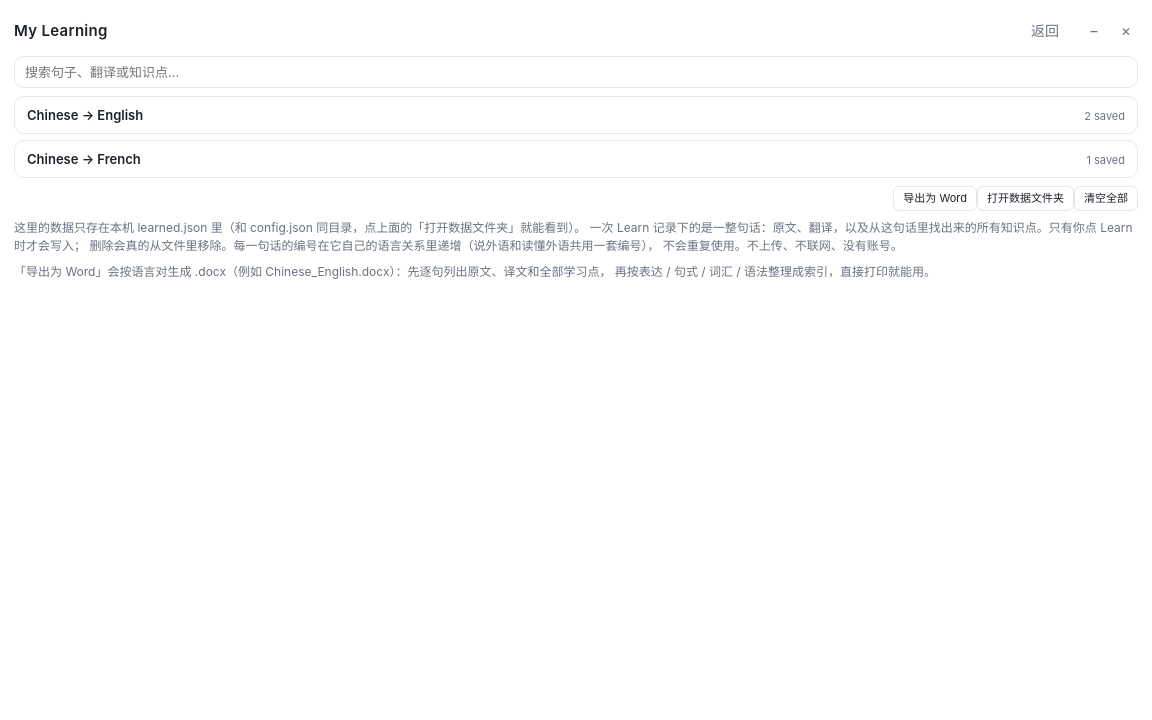
Test: MyLanguagePage: one pair › says how much knowledge each sentence holds, and shows inside only when asked
Expected: the text "Chinese → English" is shown, [27, 107, 143, 123]
What coordinates should you click on to do the following:
click the button "Chinese → English 2 saved"
I would click on:
 (85, 115)
Its box is [14, 96, 1138, 134].
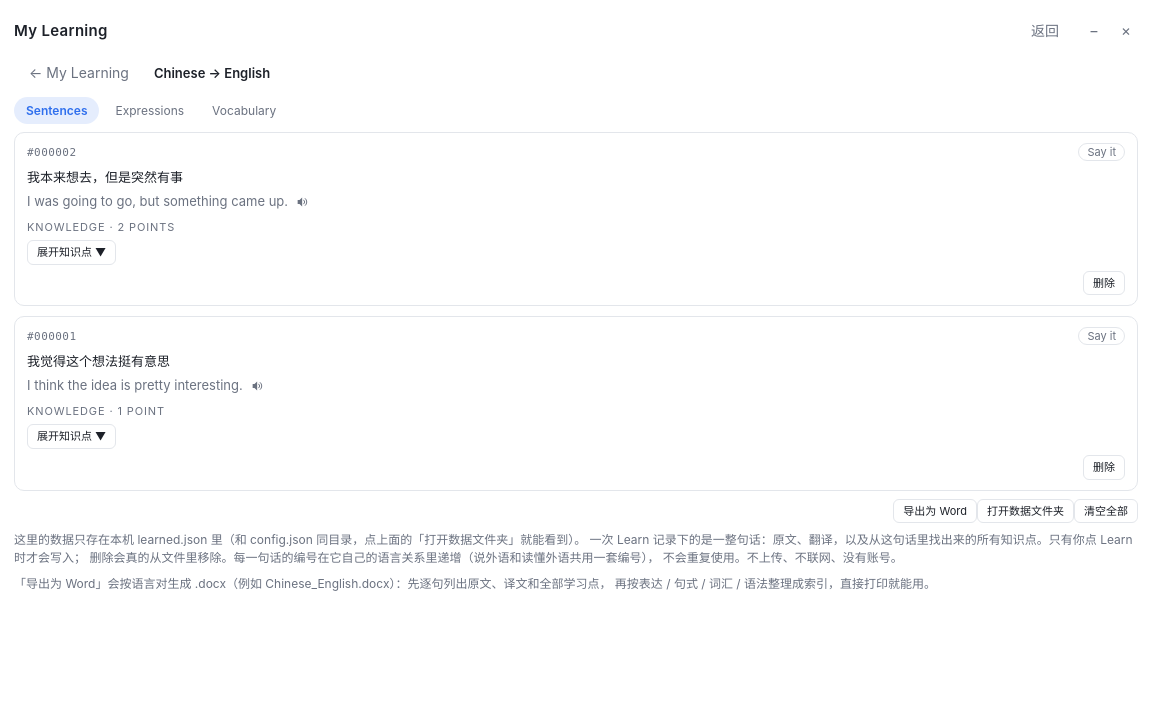
Expected: the text "临时有事" is not shown
Expected: the text "KNOWLEDGE · 2 points" is shown, [27, 220, 175, 234]
Expected: the text "KNOWLEDGE · 1 point" is shown, [27, 404, 165, 418]
What coordinates should you click on to do the following:
click the button "展开知识点 ▼" below "#000002"
I would click on:
 (72, 252)
Its box is [27, 240, 116, 265].
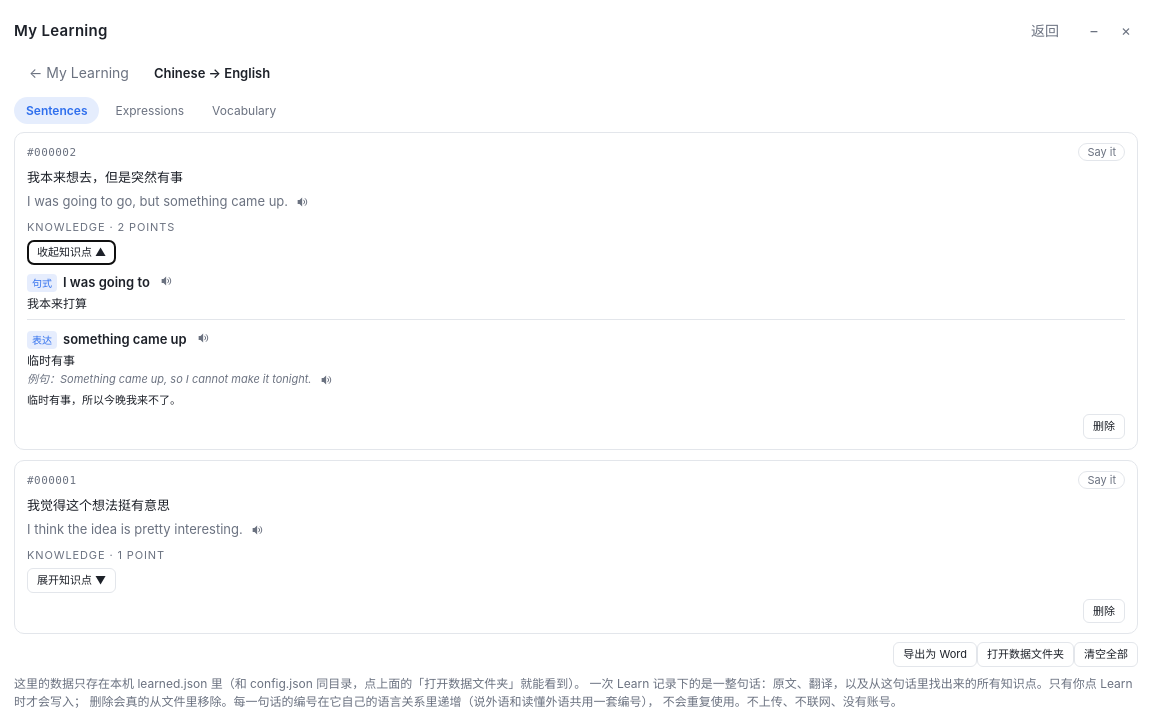
Expected: the text "something came up" is shown, [63, 331, 187, 347]
Expected: the text "临时有事" is shown, [27, 353, 75, 368]
Expected: the text "临时有事，所以今晚我来不了。" is shown, [27, 393, 181, 407]
